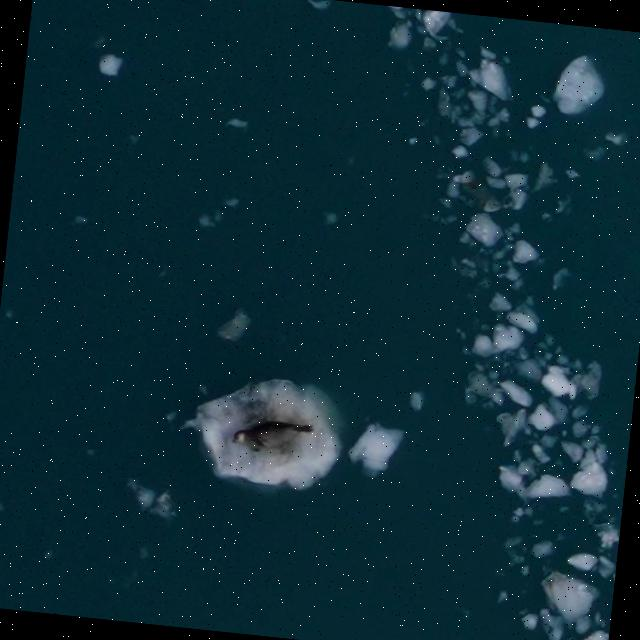seal: (231, 422, 311, 451)
